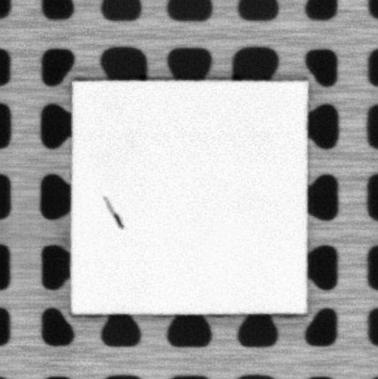DIE_INK: (101, 194, 123, 228)
